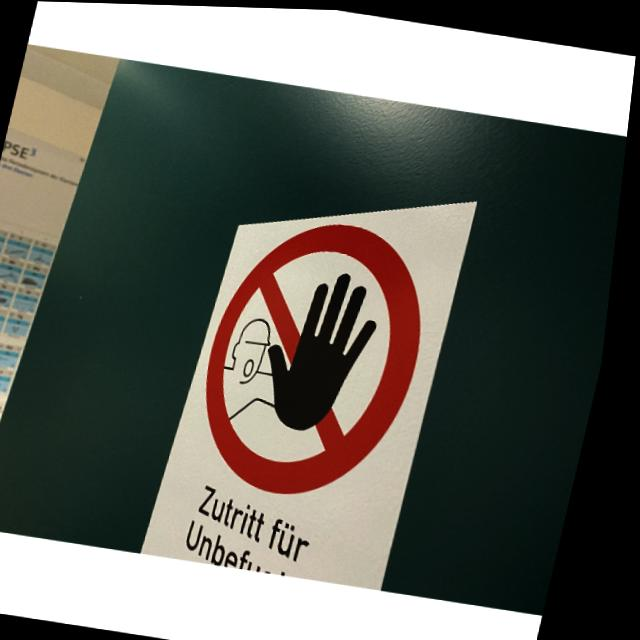No access for unauthorized persons: (189, 206, 451, 508)
